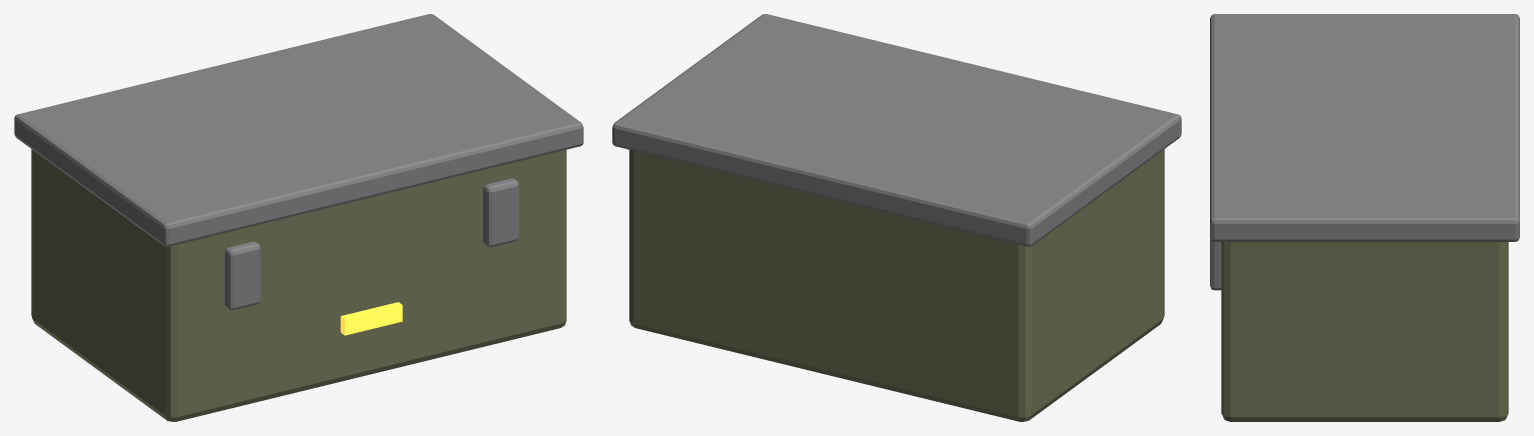
The model's file is loot_salvage.glb.
3 renders of one model, left to right at view 1: azimuth 30°, elevation 25°; view 2: azimuth 150°, elevation 25°; view 3: azimuth 270°, elevation 25°, orthographic.
Parts seen in each view (by area): view 1: Cube, Cube.001, Cube.002, Cube.003, Cube.004; view 2: Cube, Cube.001; view 3: Cube.001, Cube, Cube.003.
Boxes of the visible parts, left/top/right/bottom form: Cube: left=31, top=149, right=566, bottom=421; Cube.001: left=14, top=14, right=583, bottom=246; Cube.002: left=224, top=241, right=260, bottom=310; Cube.003: left=483, top=178, right=518, bottom=247; Cube.004: left=340, top=302, right=402, bottom=335; Cube: left=629, top=149, right=1164, bottom=421; Cube.001: left=612, top=14, right=1181, bottom=246; Cube.001: left=1210, top=14, right=1519, bottom=241; Cube: left=1221, top=242, right=1508, bottom=421; Cube.003: left=1210, top=238, right=1221, bottom=290.
Bounding box in the file's own units: 0.65 × 0.3075 × 0.41.
